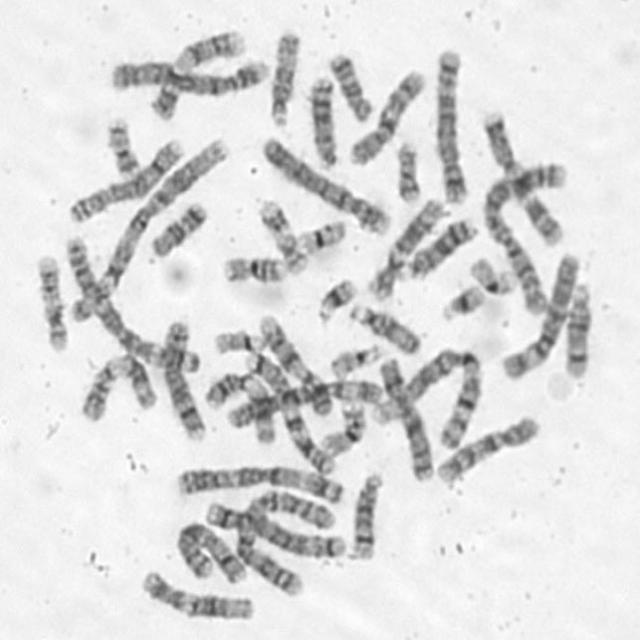A1: (63, 130, 233, 325), (370, 343, 486, 451)
A2: (479, 158, 570, 310), (230, 484, 340, 603)
A3: (63, 234, 198, 376), (172, 458, 346, 506)
B4: (258, 132, 394, 237), (106, 53, 272, 96)
B5: (202, 497, 348, 561), (432, 42, 471, 206)
C10: (344, 64, 427, 168), (432, 410, 542, 488)
C11: (200, 365, 279, 448), (76, 348, 159, 424)
C12: (364, 194, 446, 300), (136, 565, 259, 623)
C6: (498, 248, 582, 381), (223, 373, 384, 431)
C7: (477, 104, 566, 248), (243, 351, 339, 479)
C8: (65, 135, 184, 226), (158, 314, 209, 442)
C9: (144, 24, 248, 121), (251, 309, 335, 418)
D13: (396, 211, 479, 283), (306, 71, 342, 171)
D14: (344, 466, 388, 563), (560, 277, 594, 381)
D15: (345, 299, 422, 356), (264, 26, 302, 130)
E16: (316, 393, 368, 459), (218, 249, 291, 286)
E17: (254, 192, 311, 277), (33, 248, 71, 354)
E18: (146, 199, 210, 260), (324, 46, 374, 123)
F19: (292, 213, 350, 258), (466, 251, 520, 297)
F20: (102, 113, 144, 181), (392, 138, 423, 205)
G21: (310, 272, 360, 326), (436, 278, 487, 323)
G22: (327, 338, 385, 380), (210, 325, 267, 355)
X: (376, 353, 437, 484), (172, 518, 249, 586)
